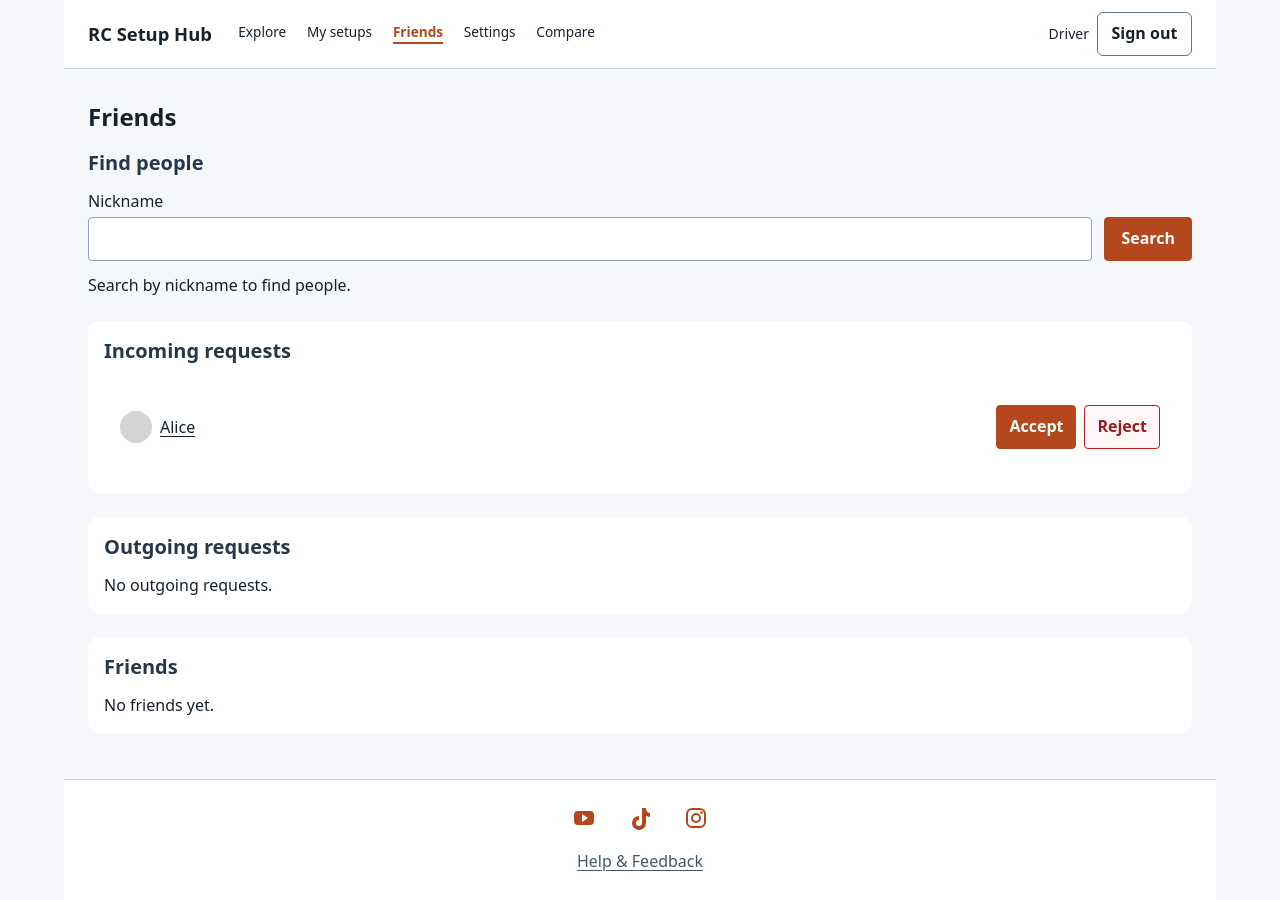
Scenario: accept 200 refreshes only the other participant's visible list
Expected: the text "Alice" is shown, [160, 415, 195, 439]
Click the button "Accept".
click(1036, 427)  # box [996, 405, 1076, 449]
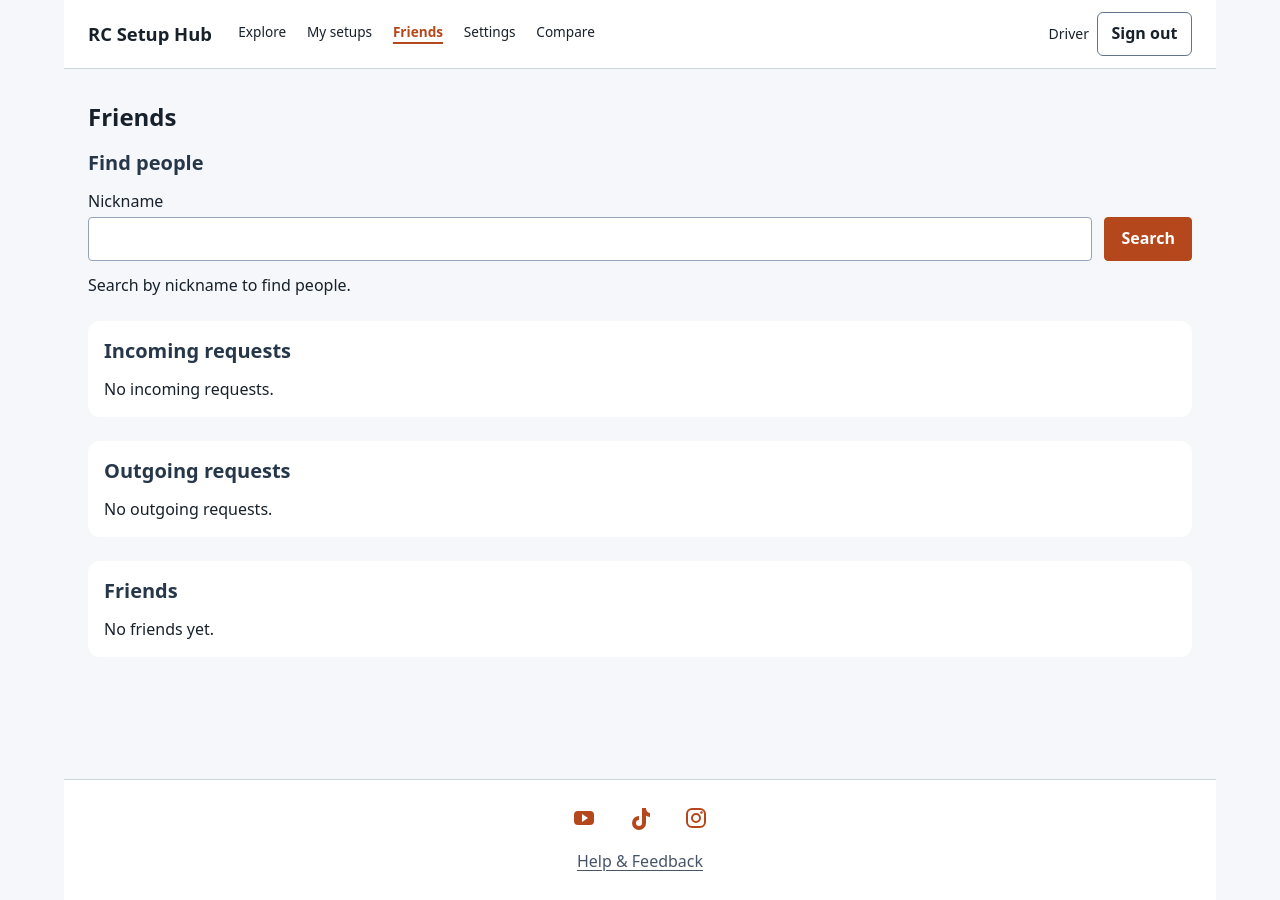
Now the text "No incoming requests." is shown, box [104, 378, 274, 400]
